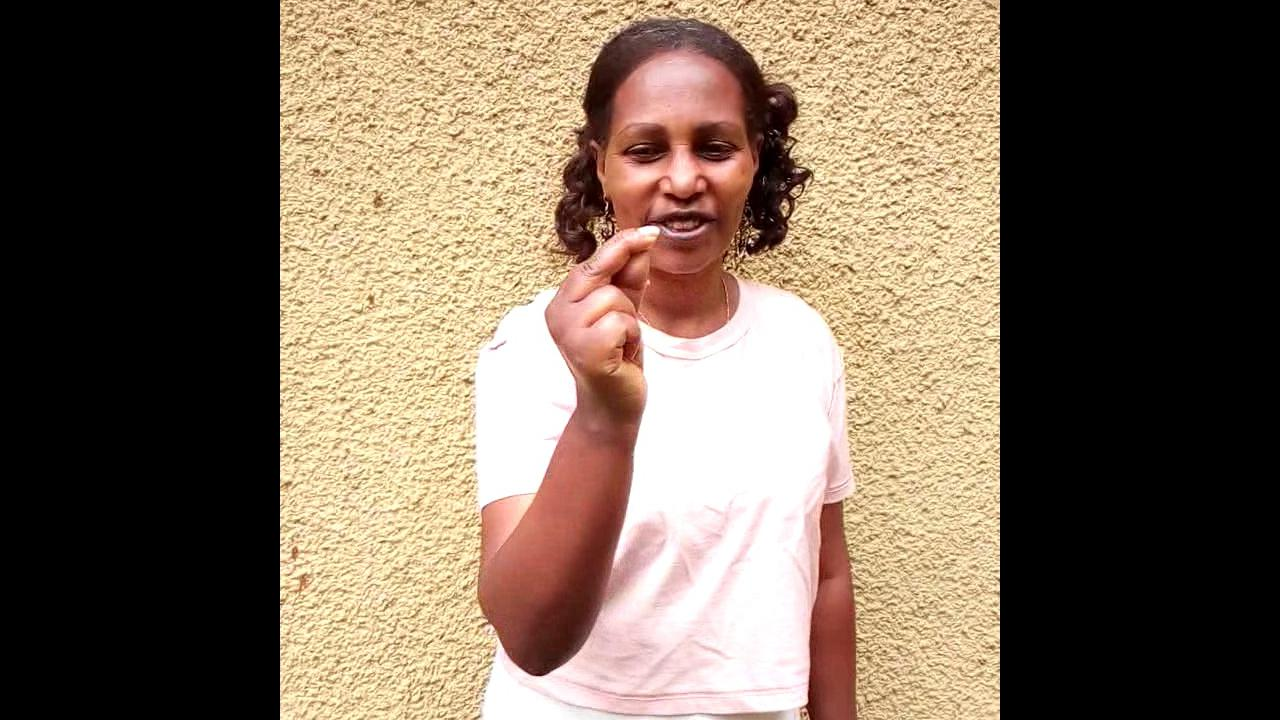CHE: (541, 227, 658, 488)
